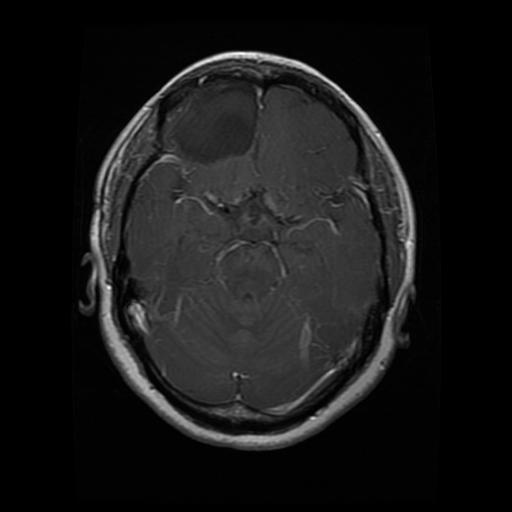Gliomia_tumour: (160, 78, 266, 164)
